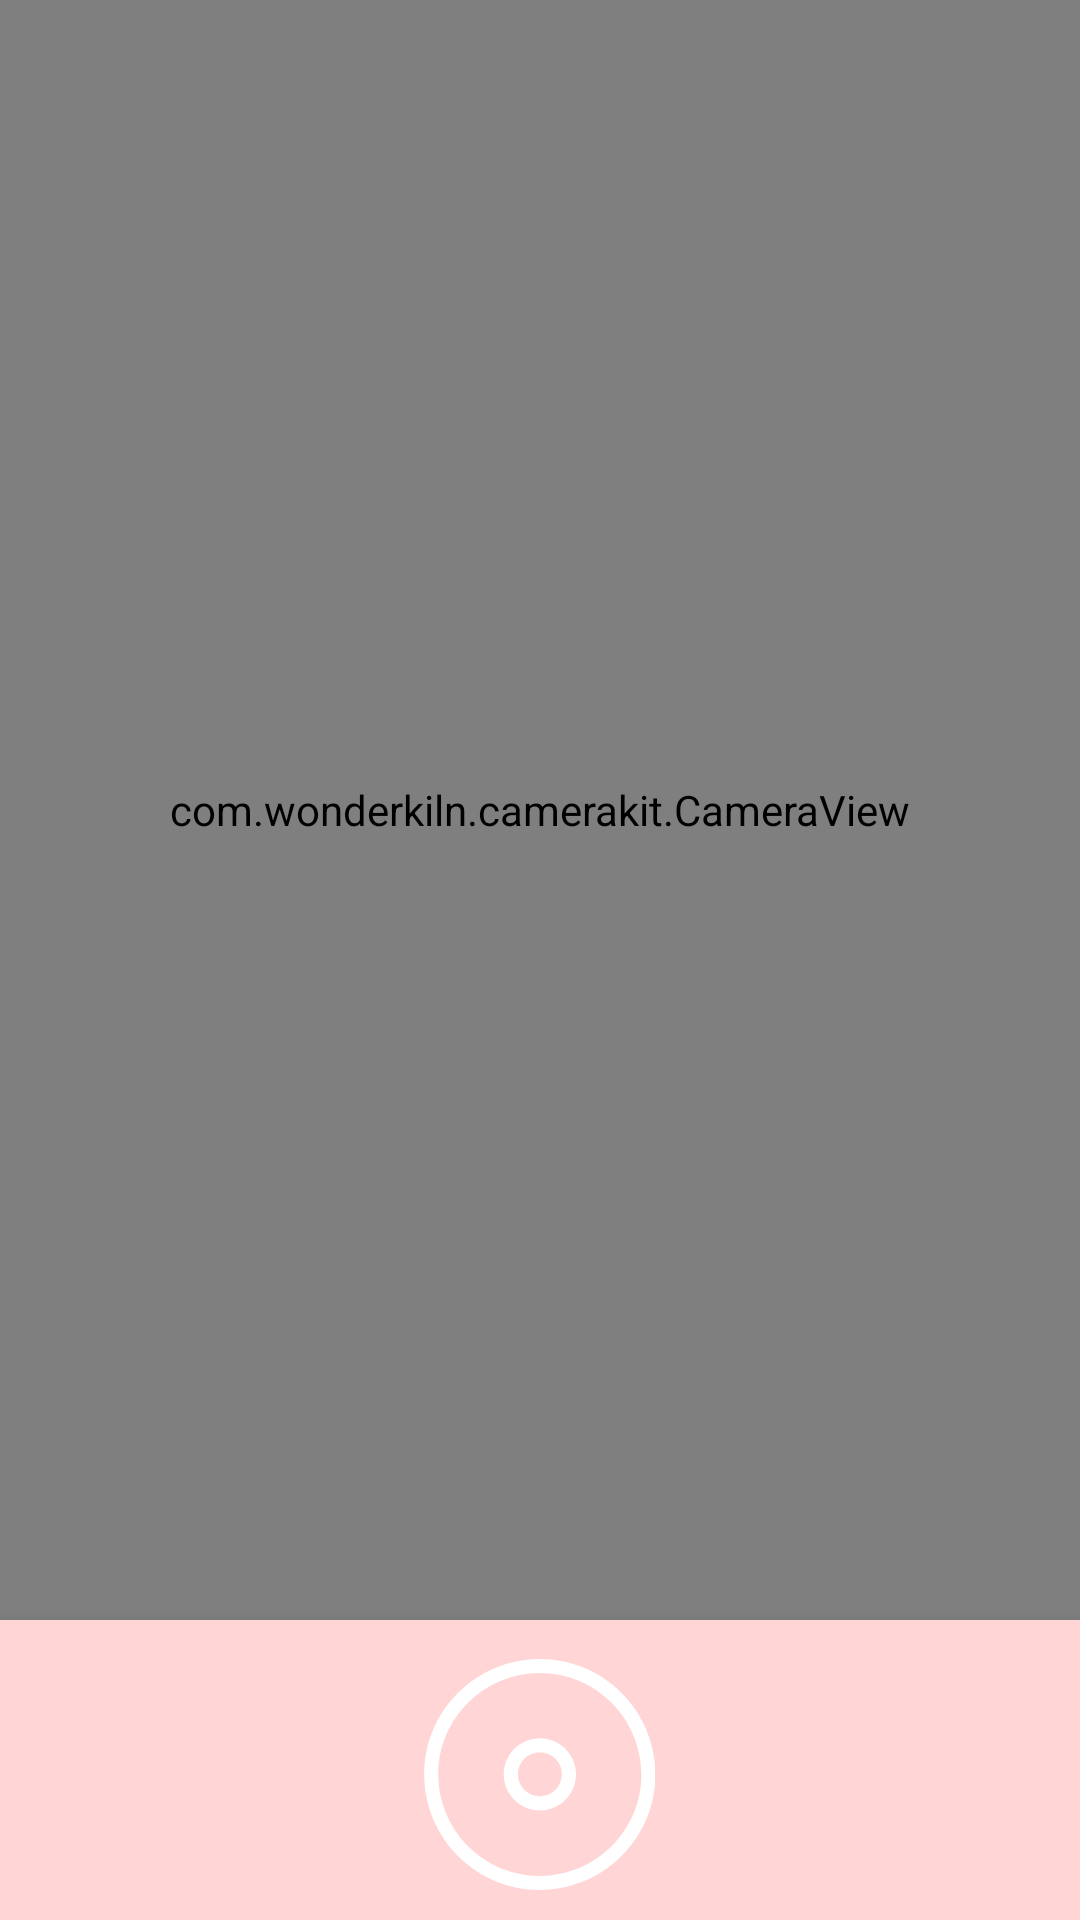

Point at icon controls on the screen. Image size 1080px×1920px, points as (x=x, y=y).
record: (x=539, y=1774)
